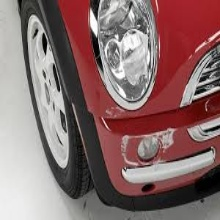no damage: (16, 1, 220, 212)
